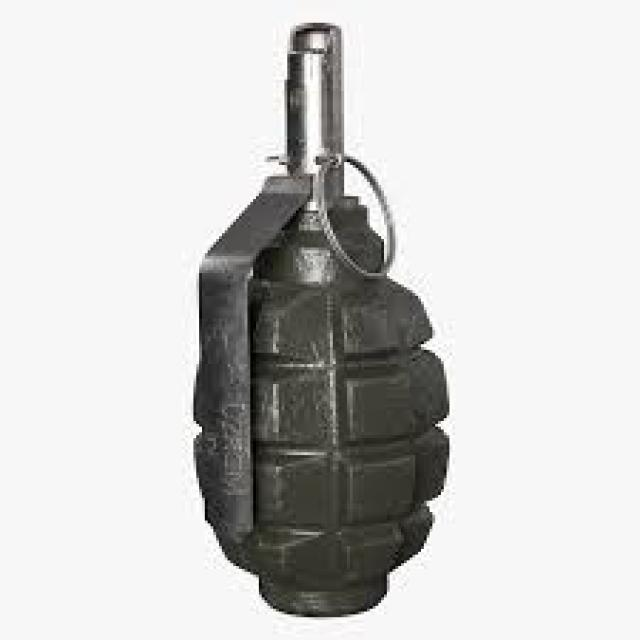grenade: (186, 22, 456, 621)
